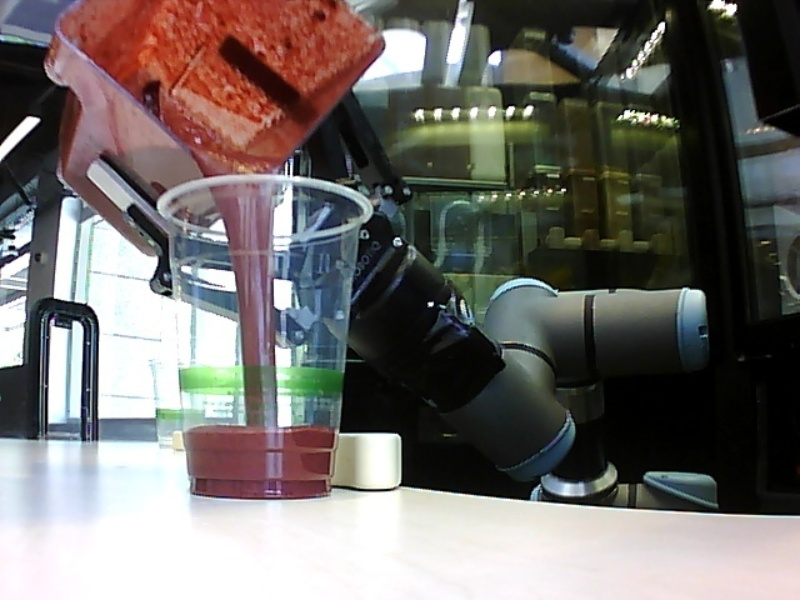cup: (154, 172, 376, 500)
limit: (180, 409, 339, 444)
